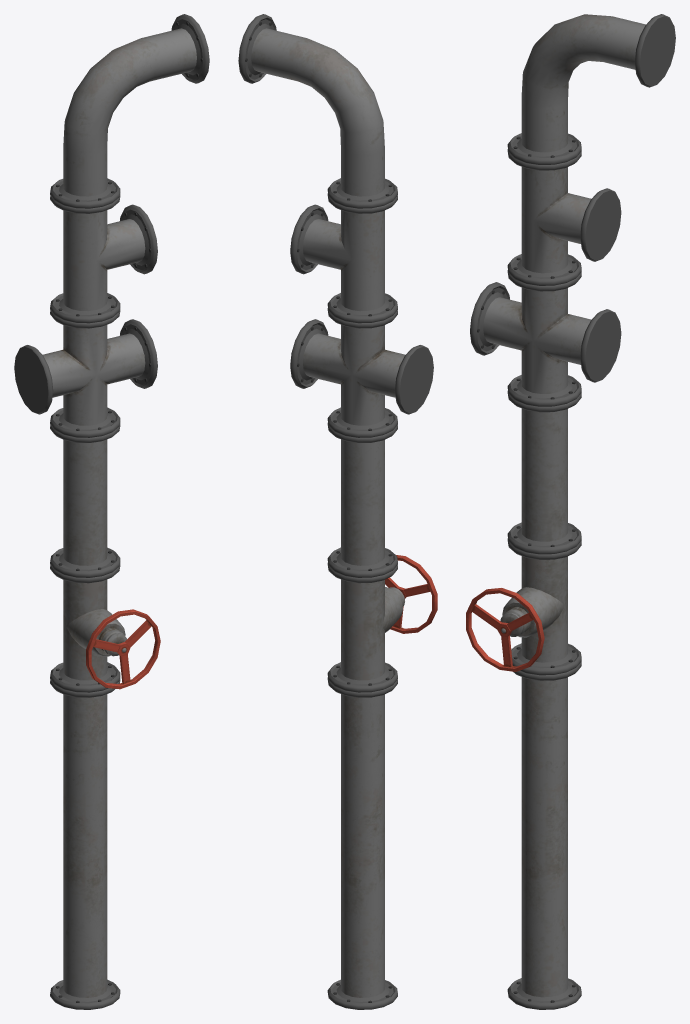
Rendered from pipe_set.glb.
The picture shows the model from 3 angles, left to right: view 1: azimuth 30°, elevation 25°; view 2: azimuth 150°, elevation 25°; view 3: azimuth 330°, elevation 25°; orthographic projection. The views are drawn at different scales.
Parts seen in each view (by area): view 1: Normal, Bend, Cross, TJunction, Valve, Short; view 2: Normal, Bend, Cross, TJunction, Valve, Short; view 3: Normal, Cross, Bend, TJunction, Valve, Short.
Part boxes in pixels (x1,y1,x2,y2): Normal: [50, 677, 120, 1009]; Bend: [50, 14, 209, 208]; Cross: [14, 308, 157, 437]; TJunction: [50, 193, 157, 323]; Valve: [50, 562, 160, 692]; Short: [50, 422, 120, 577]; Normal: [327, 677, 397, 1009]; Bend: [238, 14, 397, 208]; Cross: [290, 308, 433, 437]; TJunction: [290, 193, 397, 323]; Valve: [327, 555, 437, 692]; Short: [327, 423, 397, 577]; Normal: [507, 661, 581, 1009]; Cross: [470, 270, 621, 406]; Bend: [507, 14, 675, 164]; TJunction: [507, 149, 621, 285]; Valve: [466, 538, 581, 675]; Short: [507, 391, 581, 554].
Size of the model in its own units: 66.43 by 375 by 41.23.
Materials: 1 (1 with a texture image).
